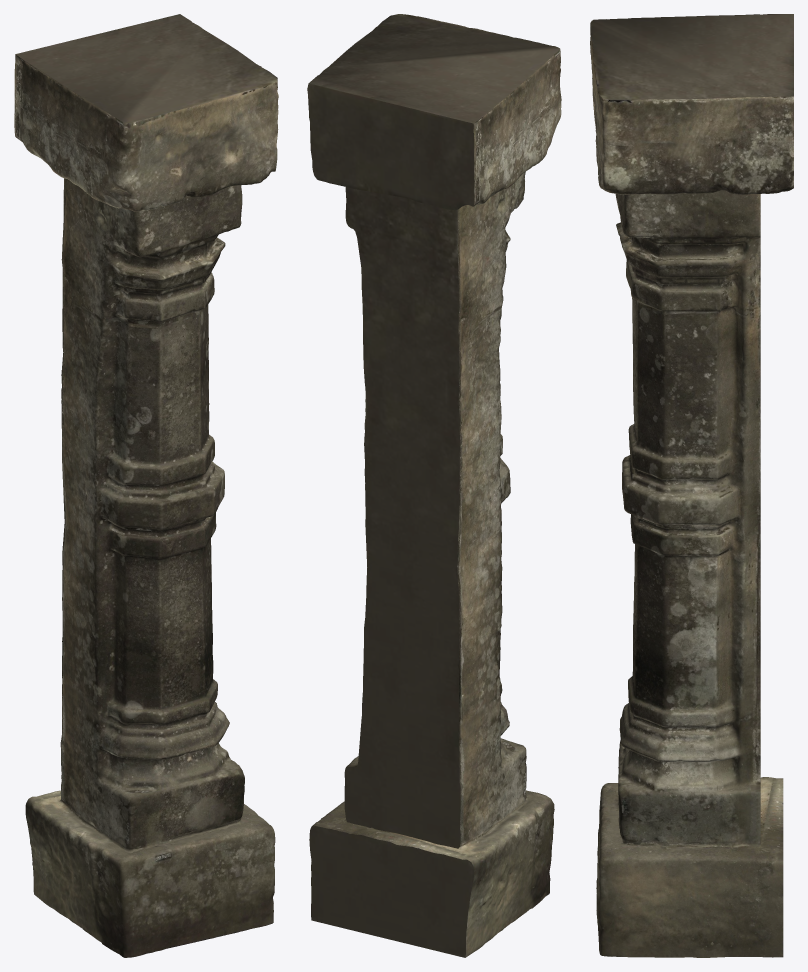
The model's file is MysonMuseum_trucuaC2 (1)_final.glb.
3 views of the same model, side by side, from view 1: azimuth 30°, elevation 25°; view 2: azimuth 150°, elevation 25°; view 3: azimuth 270°, elevation 25° (orthographic). The views are drawn at different scales.
Size of the model in its own units: 0.5186 by 2.38 by 0.5118.
1 material, 1 textured.
